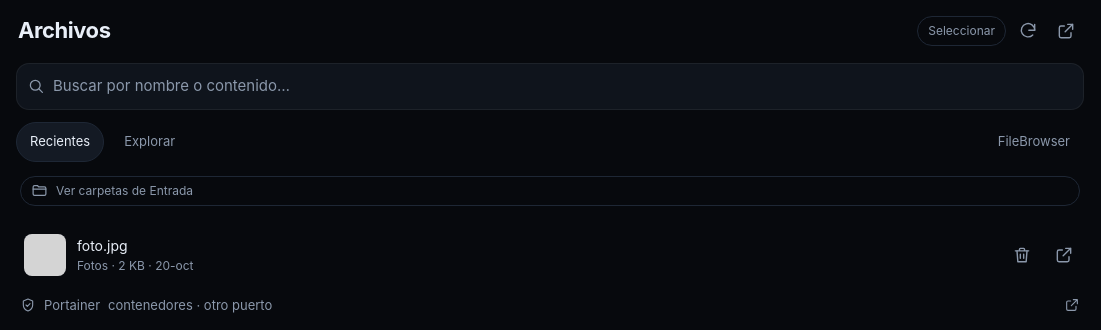
Test: Files · panel NAS nativo › muestra recientes y entra en una carpeta
Expected: the text "foto.jpg" is shown, [77,236,128,254]
Click the tab "Explorar".
click(150, 142)  # box [110,122,189,162]
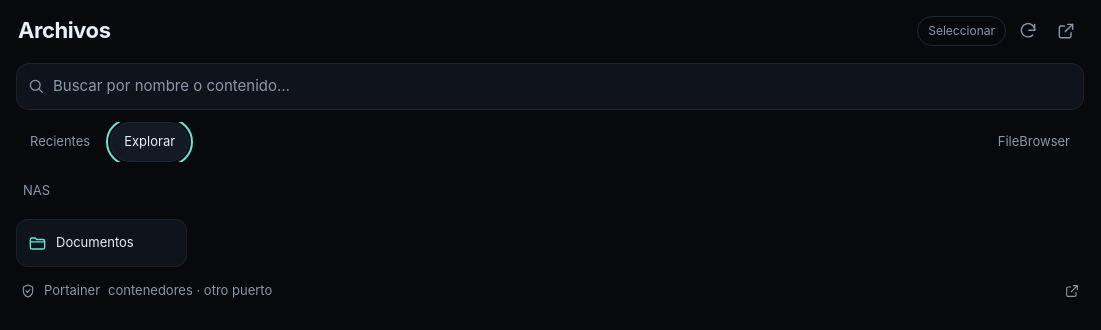
Click the button "Documentos".
click(102, 243)  # box [16,219,187,267]
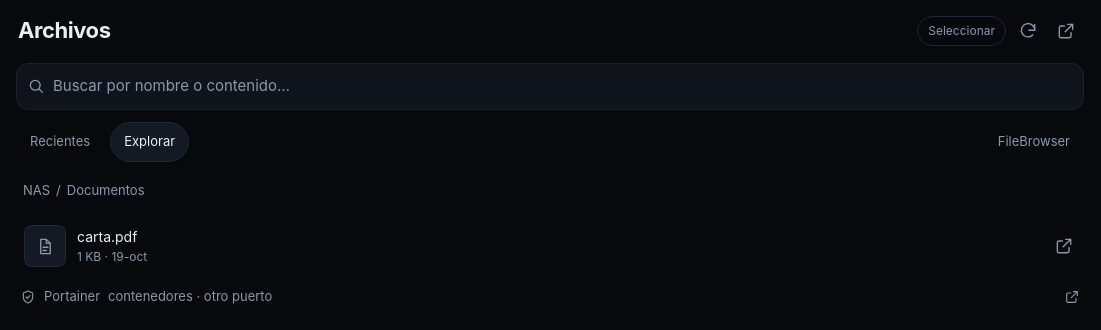
Result: the button "NAS" is shown at [18,174,55,207]
Result: the text "carta.pdf" is shown at [77,228,137,245]
